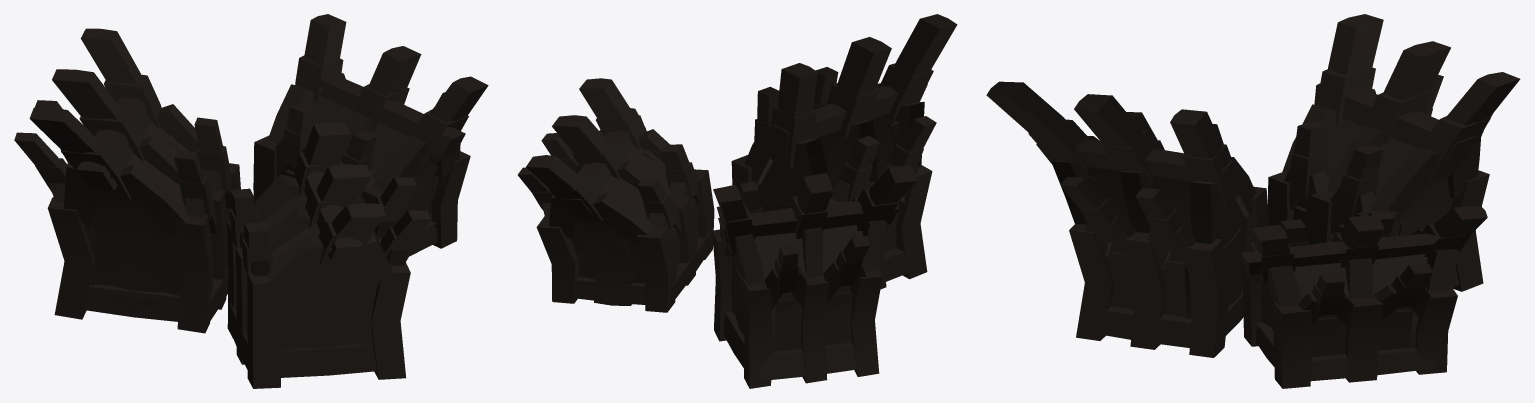
Rendered from tile_town_outline.fbx.
3 renders of one model, left to right at view 1: azimuth 30°, elevation 25°; view 2: azimuth 150°, elevation 25°; view 3: azimuth 270°, elevation 25°, orthographic. The views are drawn at different scales.
Visible parts, largest first — view 1: Cylinder002544; view 2: Cylinder002544; view 3: Cylinder002544.
Boxes of the visible parts, <box> form: Cylinder002544: <box>14,14,488,388</box>; Cylinder002544: <box>517,14,957,388</box>; Cylinder002544: <box>986,14,1520,388</box>.
Size of the model in its own units: 3.95 by 4.37 by 1.98.
Materials: 1 (1 with a texture image).
